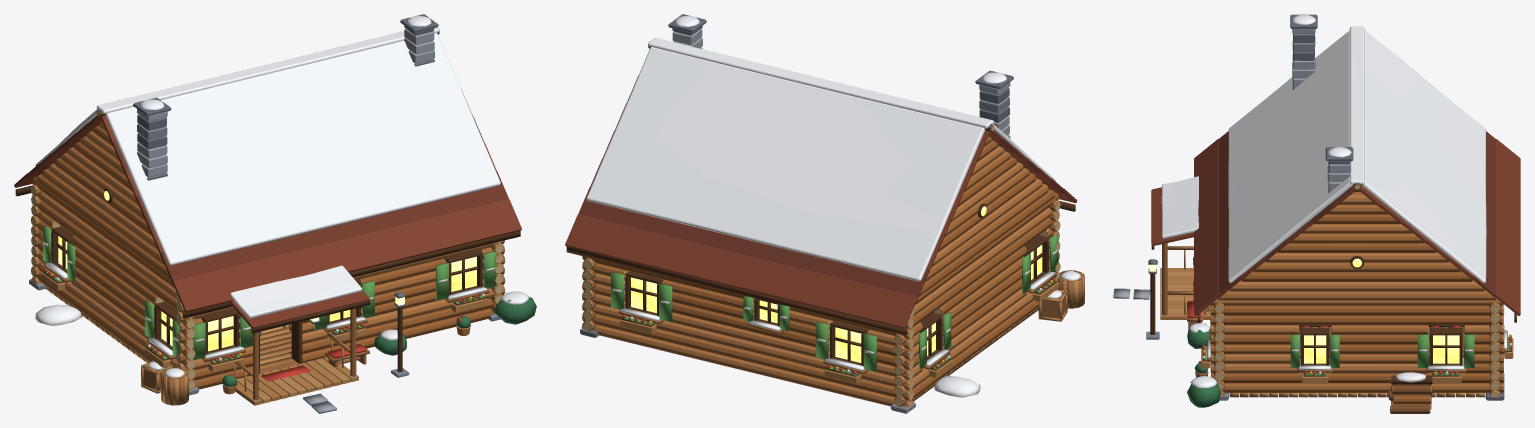
File: house_3.glb
3 views of the same model, side by side, from view 1: azimuth 30°, elevation 25°; view 2: azimuth 150°, elevation 25°; view 3: azimuth 270°, elevation 25° (orthographic). The views are drawn at different scales.
Parts seen in each view (by area): view 1: roof, walls, exterior, floor; view 2: roof, walls, exterior; view 3: roof, walls, exterior, floor.
Part boxes in pixels (<box>): roof: <box>14,14,521,333</box>; walls: <box>29,177,505,395</box>; exterior: <box>35,291,536,413</box>; floor: <box>46,287,358,405</box>; roof: <box>565,14,1077,334</box>; walls: <box>580,192,1060,413</box>; exterior: <box>934,270,1084,397</box>; roof: <box>1151,14,1520,322</box>; walls: <box>1201,190,1513,400</box>; exterior: <box>1113,243,1432,413</box>; floor: <box>1160,268,1484,397</box>.
Size of the model in its own units: 9.54 by 6.12 by 9.17.
